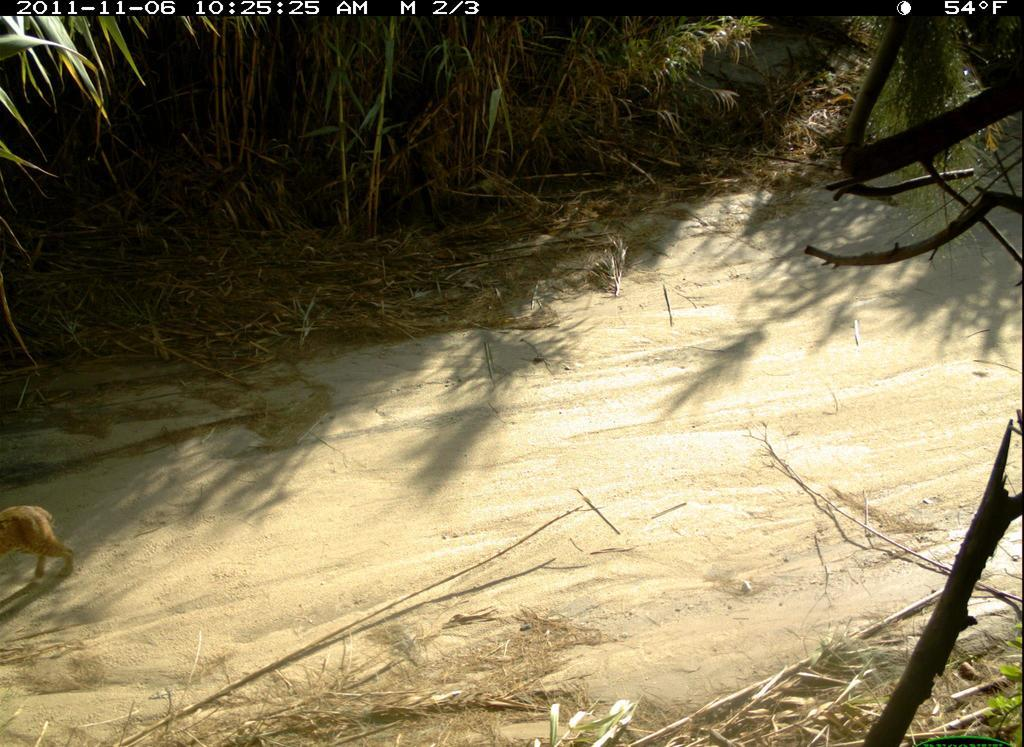bobcat: (1, 501, 77, 586)
